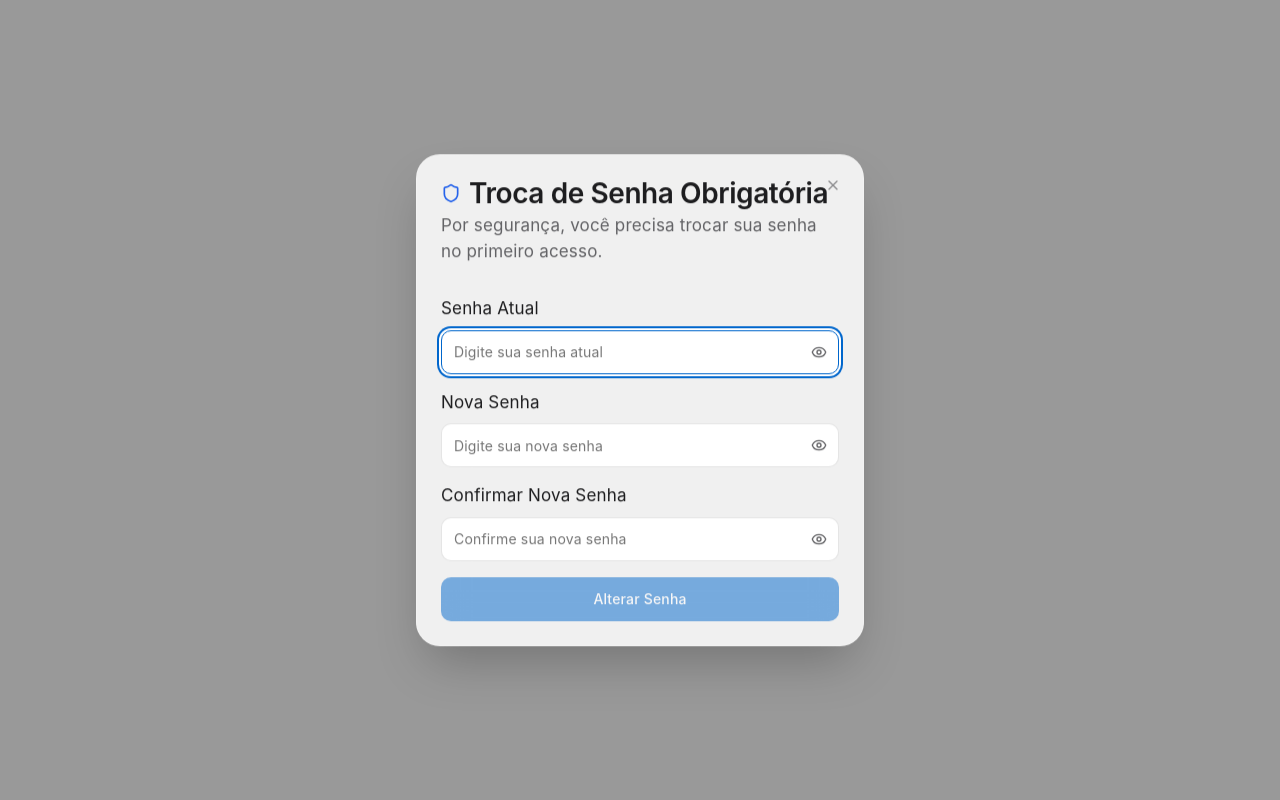
it: PasswordChangeModal › Password Validation › should show validation errors for weak password
Type "weak" into the password field labelled "Nova Senha" at coordinates (640, 445), box [441,423,839,467]
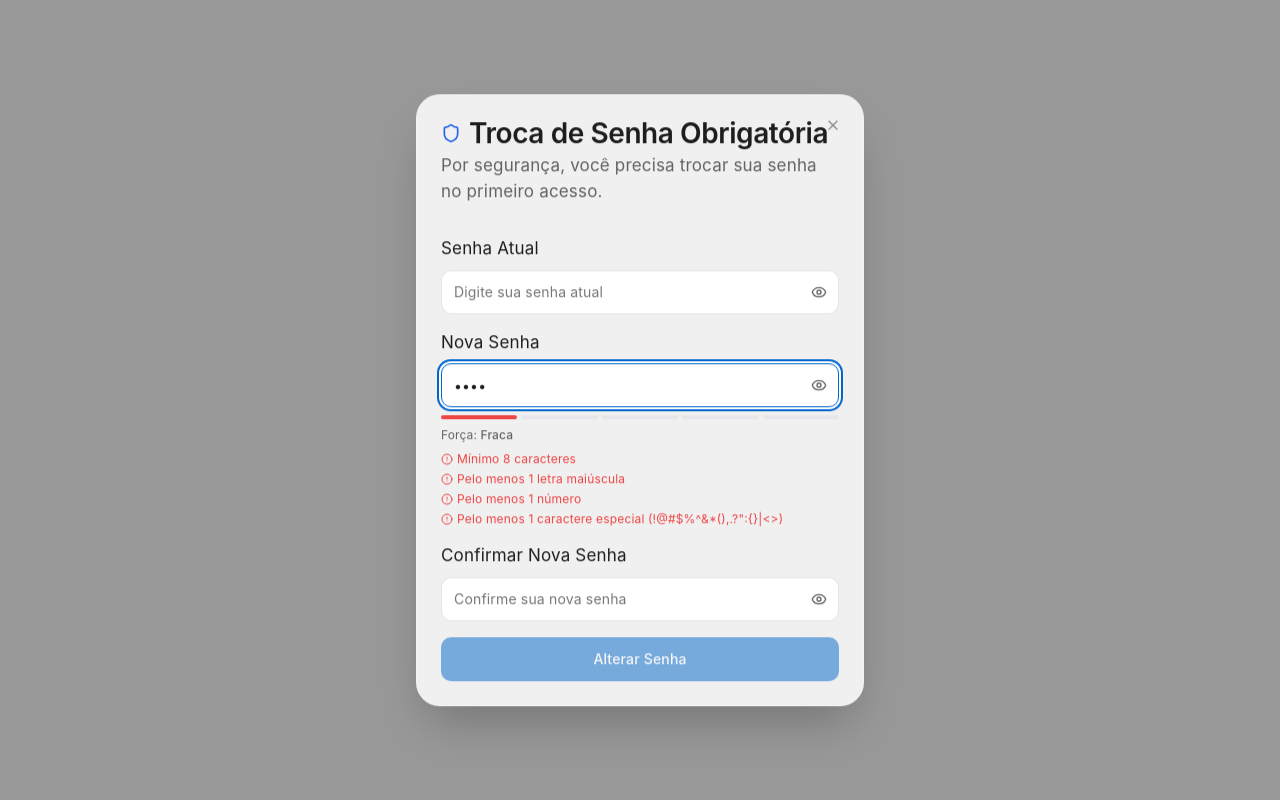
expect the list item "Mínimo 8 caracteres" is shown: met, box [441,451,576,466]
expect the list item "Pelo menos 1 letra maiúscula" is shown: met, box [441,471,625,486]
expect the list item "Pelo menos 1 número" is shown: met, box [441,491,581,506]
